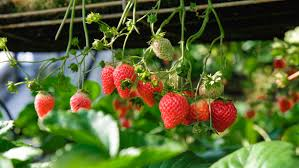ripe: (208, 95, 239, 135), (160, 89, 186, 132), (113, 62, 135, 102), (137, 75, 164, 107), (98, 65, 121, 97), (31, 89, 54, 118), (70, 89, 91, 118), (191, 98, 210, 122)
unripe: (149, 38, 175, 67)
